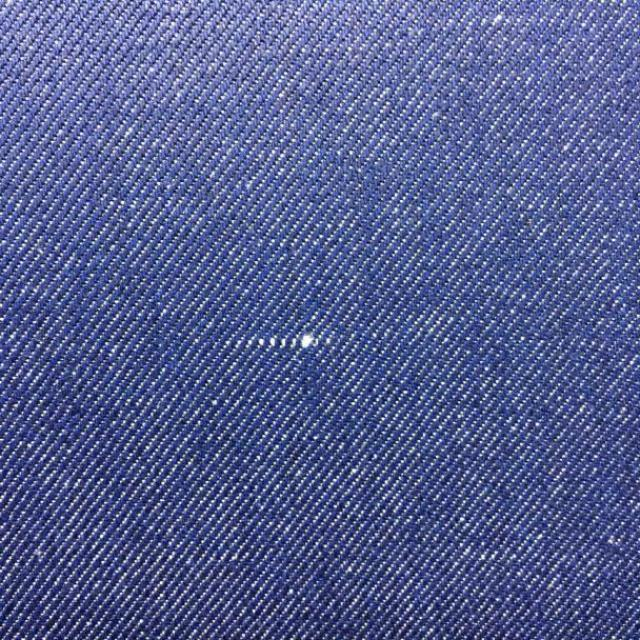Knot: (225, 333, 332, 350)
